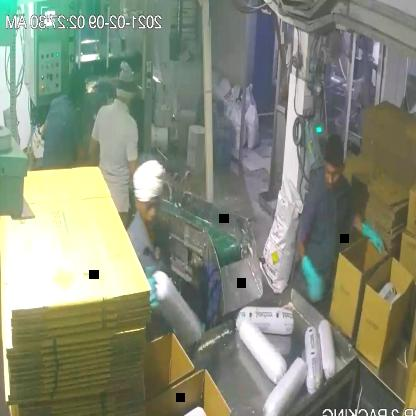glove: (297, 244, 327, 310), (353, 213, 394, 259)
